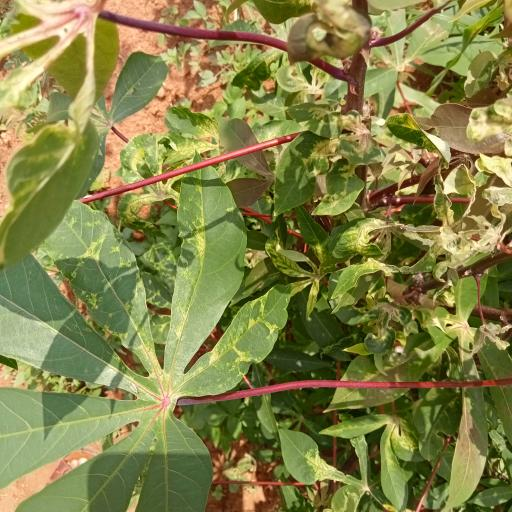Cassava_Healthy: (0, 164, 286, 512)
